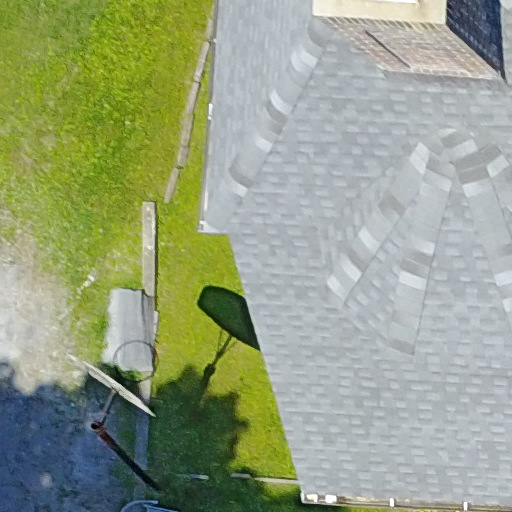basketball: (69, 329, 189, 512)
